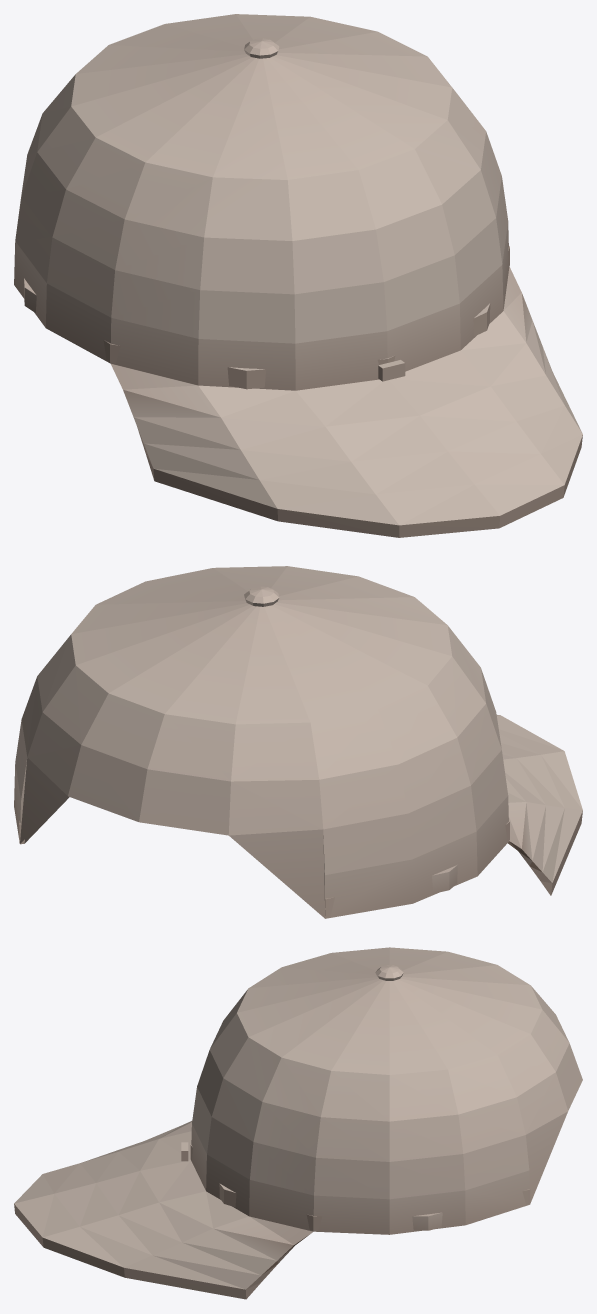
Rendered from host_q_tripo_p20_r2s3_cap.glb.
The picture shows the model from 3 angles, top to bottom: view 1: azimuth 30°, elevation 25°; view 2: azimuth 150°, elevation 25°; view 3: azimuth 270°, elevation 25°; orthographic projection. The views are drawn at different scales.
Visible parts, largest first — view 1: HostCap; view 2: HostCap; view 3: HostCap.
Boxes of the visible parts, left/top/right/bottom form: HostCap: left=14, top=14, right=582, bottom=537; HostCap: left=14, top=566, right=582, bottom=918; HostCap: left=14, top=947, right=582, bottom=1299.
Bounding box in the file's own units: 0.344 × 0.2474 × 0.4984.
